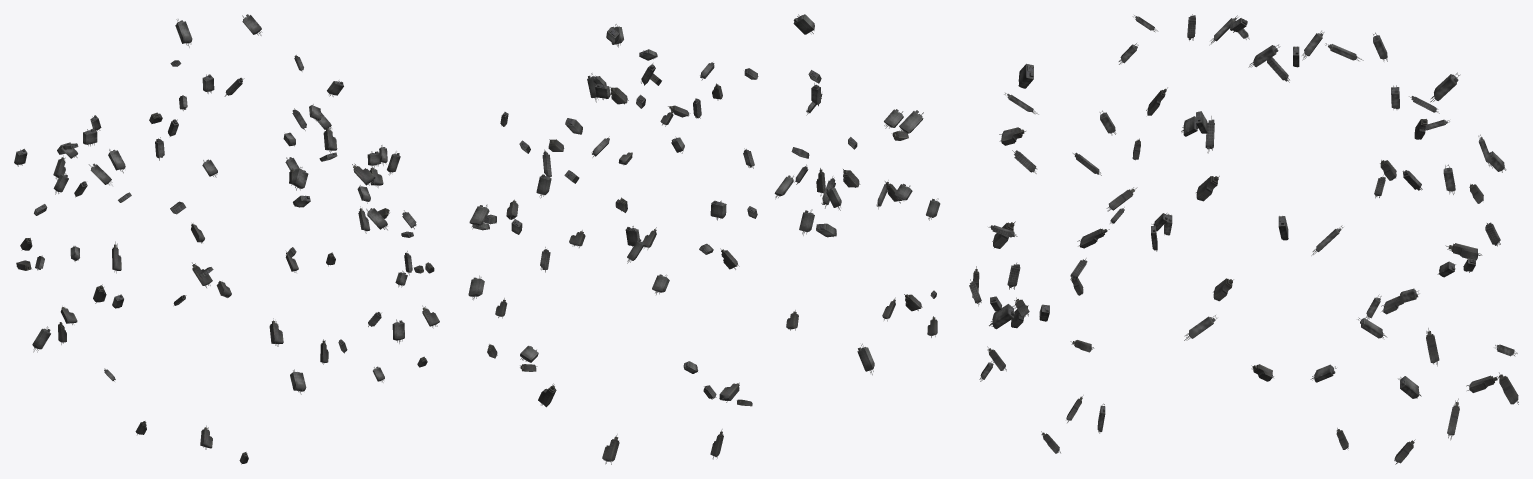
File: bg3d612_00_topProps.fbx
The picture shows the model from 3 angles, left to right: view 1: azimuth 30°, elevation 25°; view 2: azimuth 150°, elevation 25°; view 3: azimuth 270°, elevation 25°; orthographic projection. The views are drawn at different scales.
Size of the model in its own units: 194 by 166 by 197.
